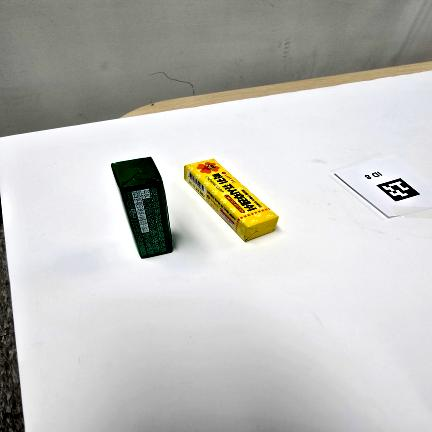gum_green: (111, 157, 172, 258)
